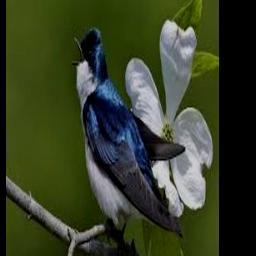Swallow: (71, 27, 185, 243)
